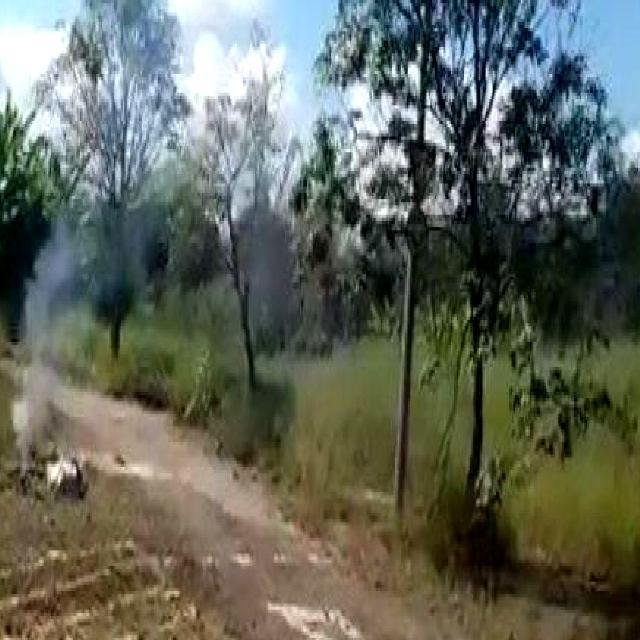Smoke: (16, 187, 106, 453), (215, 193, 323, 339)
